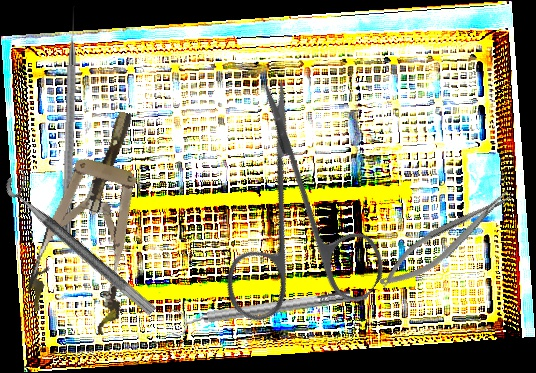Fixation Ring: (0, 166, 168, 317), (168, 282, 354, 338)
Hook Surgical: (60, 5, 81, 239)
Iris Scissors: (149, 75, 442, 368)
Needle Holder: (371, 184, 521, 297)
Speculum: (20, 100, 174, 338)
